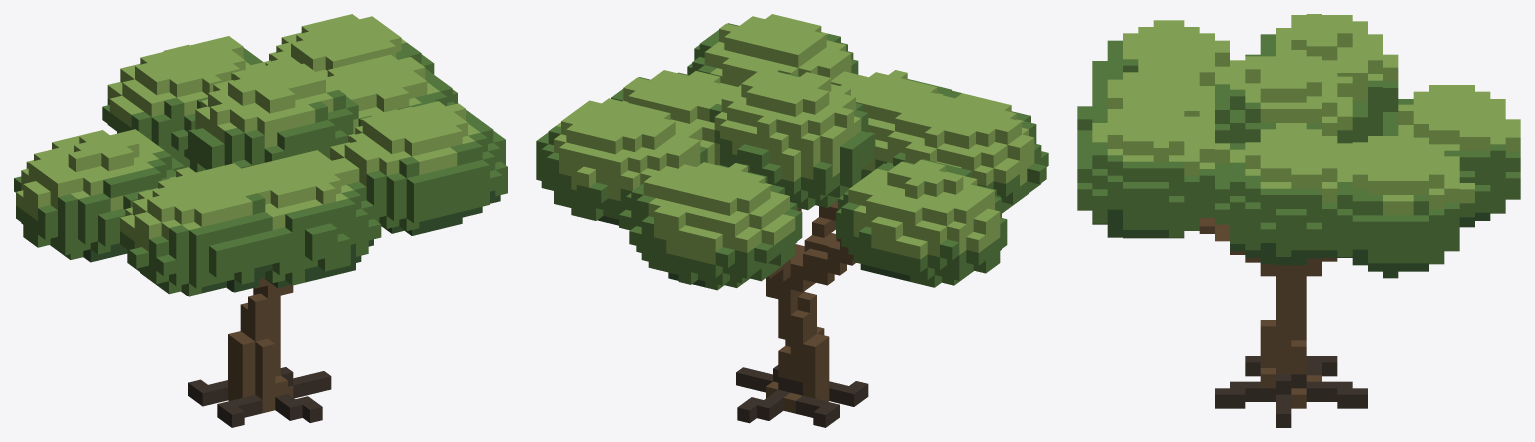
File: ancient_oak_v2_species1_mid.glb
The picture shows the model from 3 angles, left to right: view 1: azimuth 30°, elevation 25°; view 2: azimuth 150°, elevation 25°; view 3: azimuth 270°, elevation 25°; orthographic projection. The views are drawn at different scales.
Visible parts, largest first — view 1: ancient_oak_v2_species1_mid; view 2: ancient_oak_v2_species1_mid; view 3: ancient_oak_v2_species1_mid.
Boxes of the visible parts, x1,y1,x2,y2 form: ancient_oak_v2_species1_mid: [14, 14, 507, 427]; ancient_oak_v2_species1_mid: [536, 14, 1048, 427]; ancient_oak_v2_species1_mid: [1077, 14, 1520, 427].
Size of the model in its own units: 8.25 by 6 by 7.25.
Materials: 1 (1 with a texture image).
